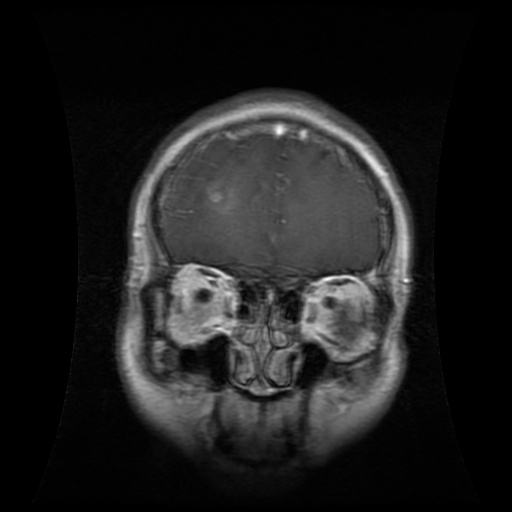glioma: (204, 166, 236, 209)
